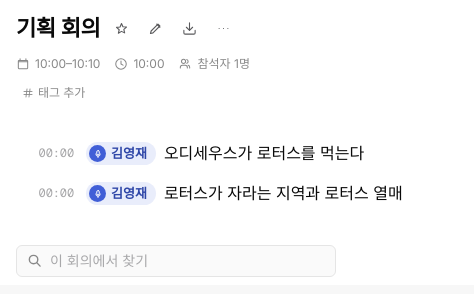
Test case: 다음 결과를 누르면 카운터와 현재 매칭이 함께 움직인다
Type "로터스" into the search field labelled "이 회의에서 찾기".
click(188, 261); type("로터스")  # box x1=50 y1=250 x2=327 y2=271
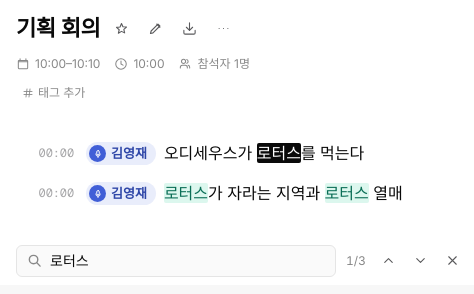
Click the button named "다음 결과".
click(421, 261)  # box x1=408 y1=248 x2=434 y2=274
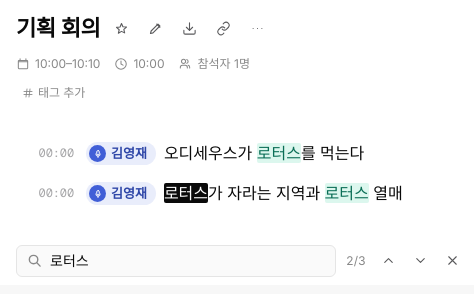
Result: the text "2/3" is shown at x1=346 y1=253 x2=366 y2=268
